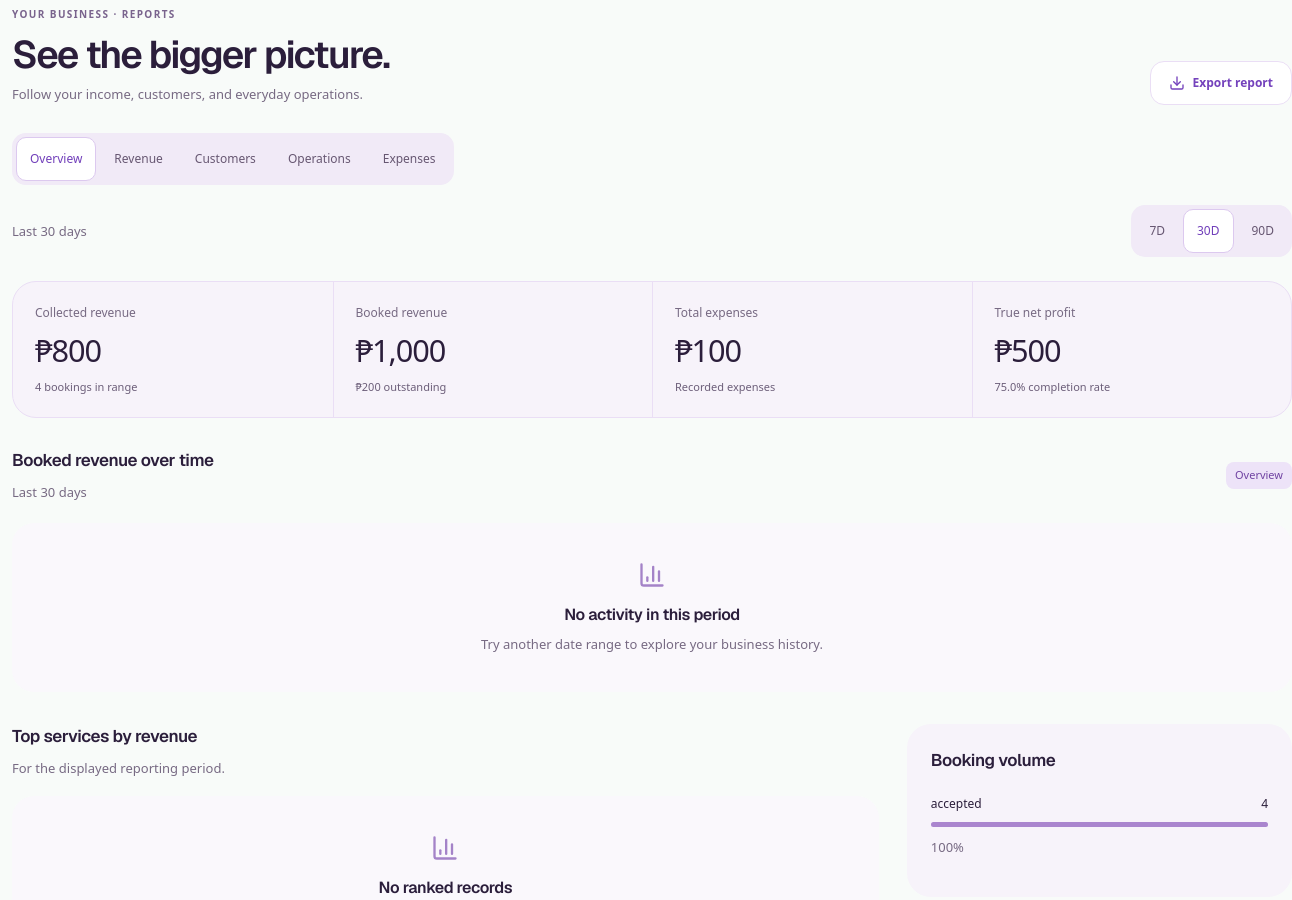
redesigned reports › keeps prior results visible on range failure and disables their export
Click the button "7D" at (1157, 231), box [1135,209,1179,253]
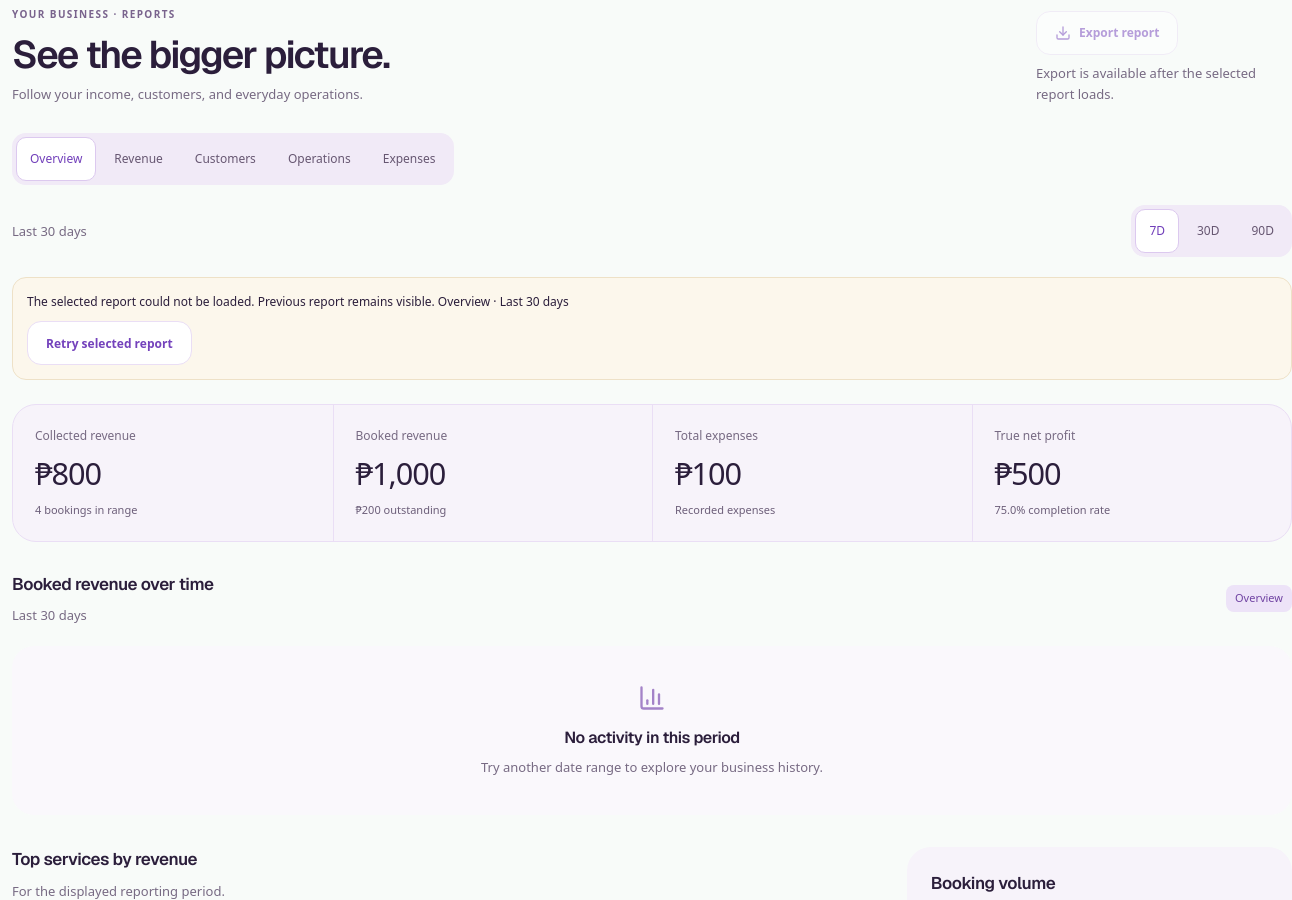
Expected: the text "₱800" is shown, [35,452,101,494]
Expected: the text "The selected report could not be loaded" is shown, [27,293,435,310]
Expected: the button "Retry selected report" is enabled, [27,321,192,365]
